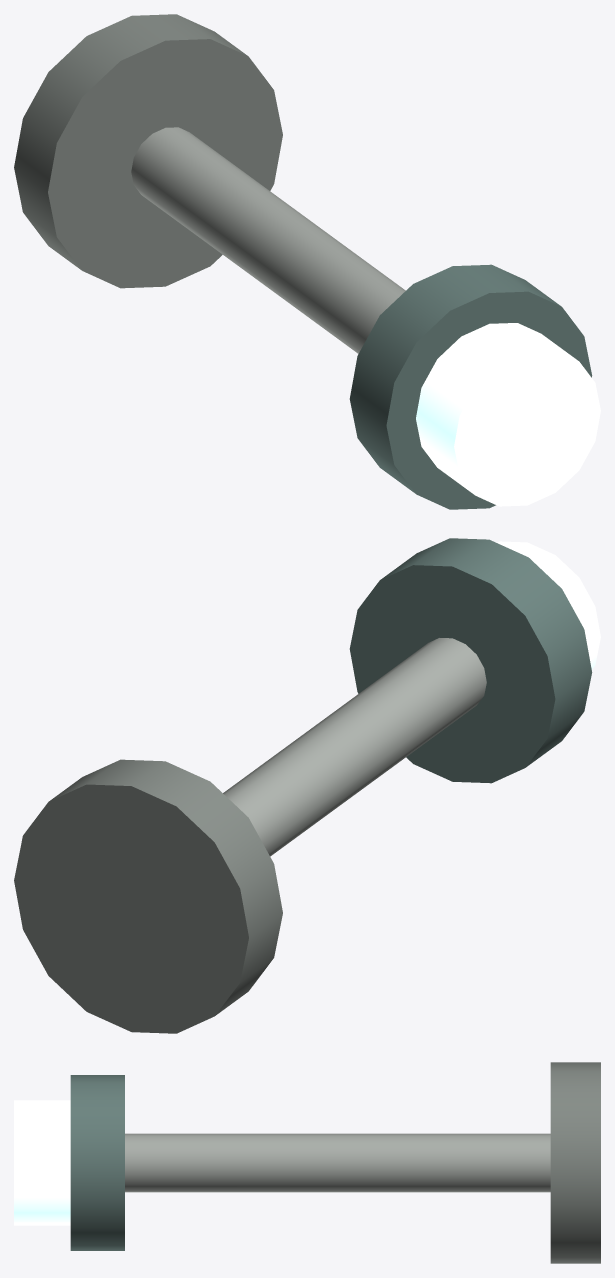
Rendered from service_light.glb.
3 views of the same model, one above another, from view 1: azimuth 30°, elevation 25°; view 2: azimuth 150°, elevation 25°; view 3: azimuth 270°, elevation 25° (orthographic). The views are drawn at different scales.
Parts seen in each view (by area): view 1: foot, lamp, pole, lamp_ring; view 2: foot, lamp_ring, pole, lamp; view 3: pole, foot, lamp_ring, lamp.
Part boxes in pixels (x1,y1,x2,y2): foot: [14, 14, 282, 288]; lamp: [416, 323, 600, 506]; pole: [131, 127, 405, 353]; lamp_ring: [349, 264, 592, 509]; foot: [14, 759, 282, 1033]; lamp_ring: [349, 538, 592, 783]; pole: [223, 638, 486, 856]; lamp: [496, 541, 600, 669]; pole: [125, 1133, 550, 1192]; foot: [550, 1062, 600, 1263]; lamp_ring: [70, 1075, 124, 1250]; lamp: [14, 1100, 70, 1225].
Bounding box in the file's own units: 0.24 × 0.24 × 0.7.
